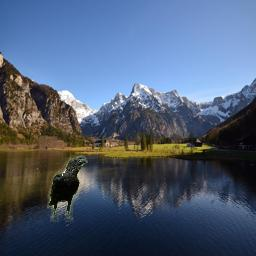Crow: (47, 155, 88, 222)
